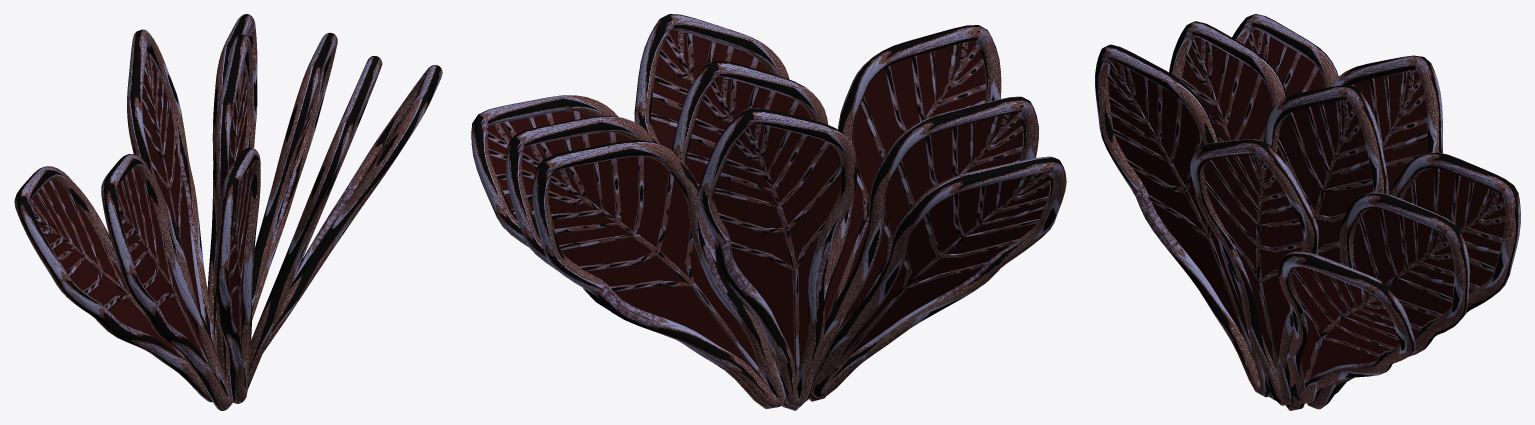
The model's file is VentKelp.fbx.
The picture shows the model from 3 angles, left to right: view 1: azimuth 30°, elevation 25°; view 2: azimuth 150°, elevation 25°; view 3: azimuth 270°, elevation 25°; orthographic projection. The views are drawn at different scales.
Parts seen in each view (by area): view 1: VentKelp.001; view 2: VentKelp.001; view 3: VentKelp.001.
Part boxes in pixels (left/top/right/bottom): VentKelp.001: left=14, top=14, right=442, bottom=410; VentKelp.001: left=471, top=14, right=1066, bottom=410; VentKelp.001: left=1095, top=14, right=1520, bottom=410.
Size of the model in its own units: 233 by 154 by 172.
